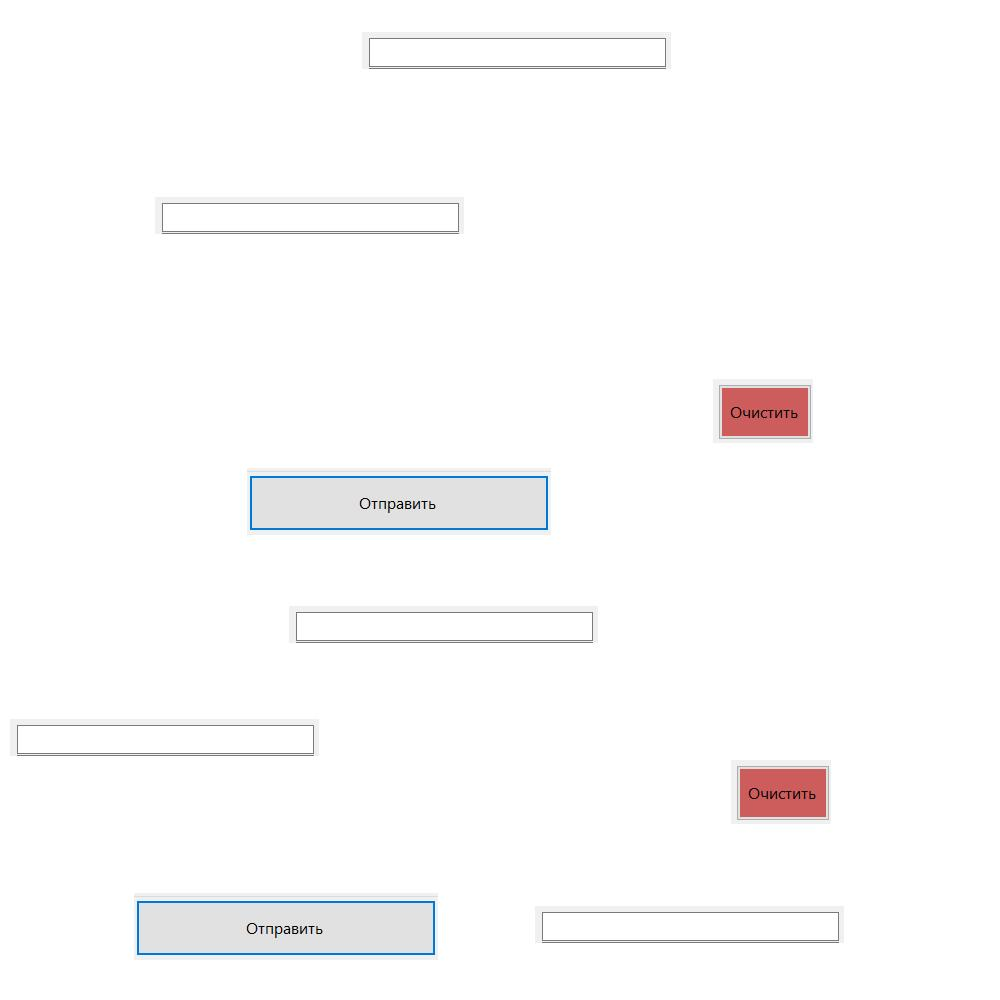Button: (247, 468, 551, 535), (134, 893, 438, 960), (731, 760, 831, 824), (713, 379, 813, 443)
EditText-: (10, 719, 319, 756), (289, 606, 598, 643), (155, 197, 464, 234), (362, 32, 671, 69), (535, 906, 844, 943)
